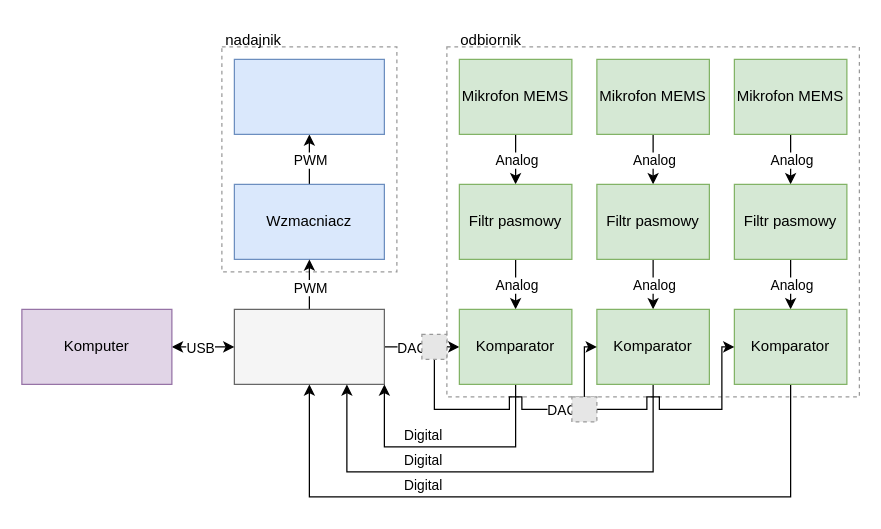
Some shapes in this 881 by 529 pixel diagram are drawn without their labels. Grey dashed boxes stand in for pictures. The shapes that lost their labels are listed below. From the top down, each one's centre as x and y in pixels, then its label:
At point 308,96: "Przetwornik piezoelektryczny".
At point 308,346: "NUCLEO L476".
